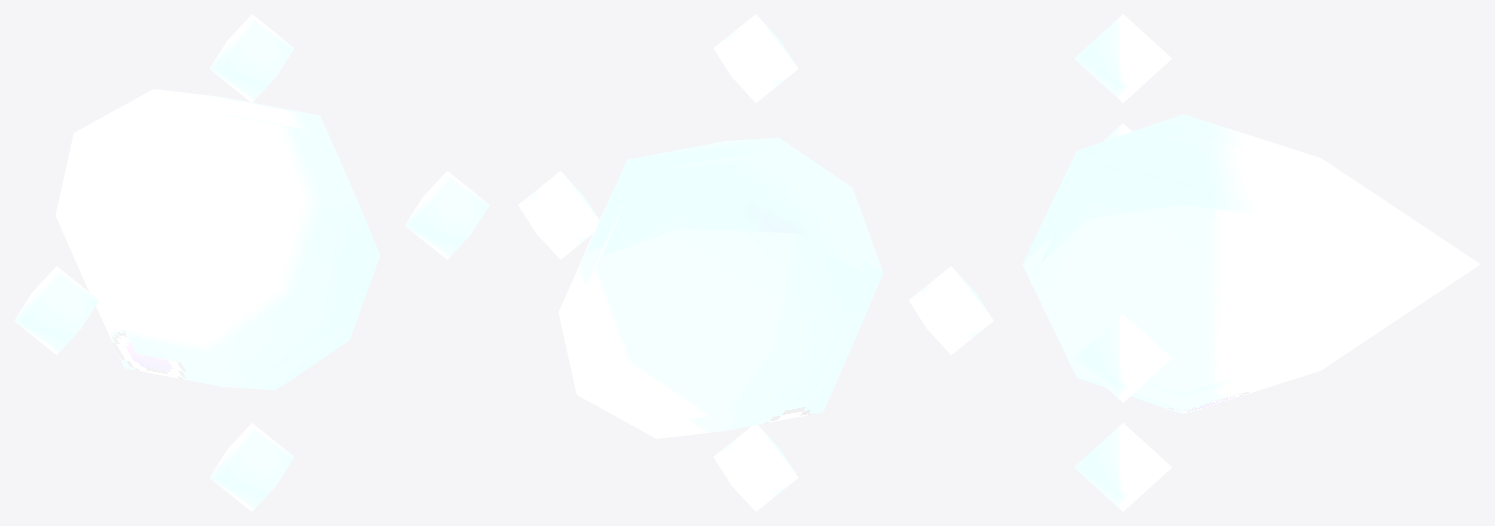
The model's file is sfx_spirit_order_aquamarine_missile1.glb.
The picture shows the model from 3 angles, left to right: view 1: azimuth 30°, elevation 25°; view 2: azimuth 150°, elevation 25°; view 3: azimuth 270°, elevation 25°; orthographic projection.
Parts seen in each view (by area): view 1: sfx_spirit_order_aquamarine_missile1, sfx_spirit_order_aquamarine_missile1_obj1; view 2: sfx_spirit_order_aquamarine_missile1, sfx_spirit_order_aquamarine_missile1_obj1; view 3: sfx_spirit_order_aquamarine_missile1, sfx_spirit_order_aquamarine_missile1_obj1.
Part boxes in pixels (x1,y1,x2,y2): sfx_spirit_order_aquamarine_missile1: (55,89,380,390); sfx_spirit_order_aquamarine_missile1_obj1: (14,14,489,511); sfx_spirit_order_aquamarine_missile1: (558,137,883,438); sfx_spirit_order_aquamarine_missile1_obj1: (518,14,993,511); sfx_spirit_order_aquamarine_missile1: (1022,114,1480,414); sfx_spirit_order_aquamarine_missile1_obj1: (1074,14,1172,511).
Size of the model in its own units: 0.3164 by 0.3164 by 0.264.
1 material, 1 textured.
